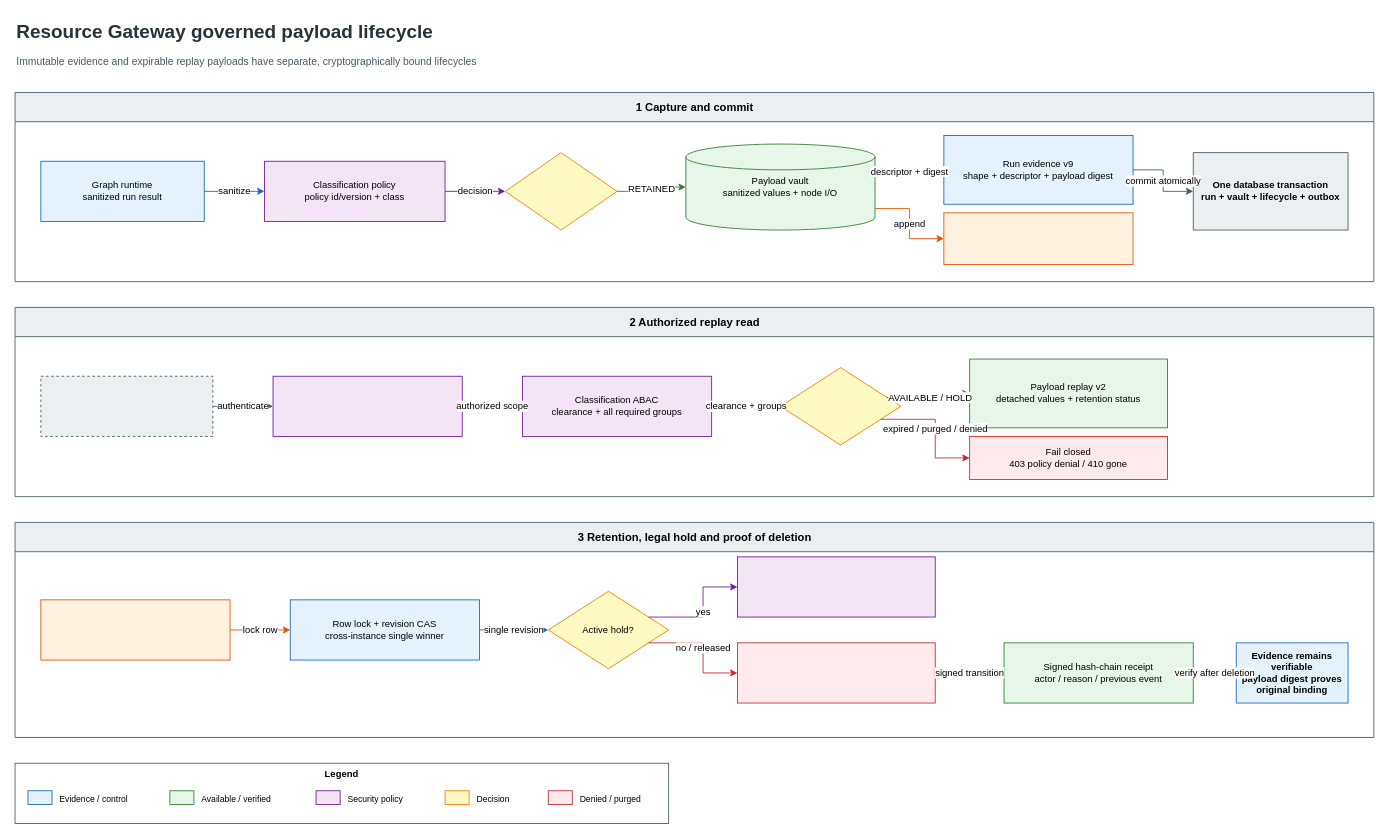
This 1389x839 diagram has some shape labels left out. Here are the shapes that lost their labels. From the top down, the centre of each, then its label:
the point at 560,191: Retain?
the point at 1038,238: Signed lifecycle event CAPTURED / NOT_RETAINED
the point at 126,405: ANEKE Tool Studio signed workload identity
the point at 367,405: Scope + purpose gate tenant / environment / operation
the point at 840,406: Lifecycle state
the point at 836,586: LEGAL_HOLD payload remains readable by policy
the point at 135,629: Scheduler or governance API bounded sweep / explicit command
the point at 836,672: Atomic purge delete blob + append PURGED event
